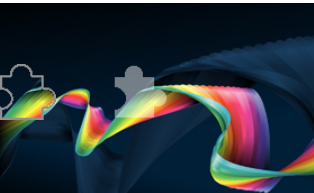target: (112, 64, 167, 119)
